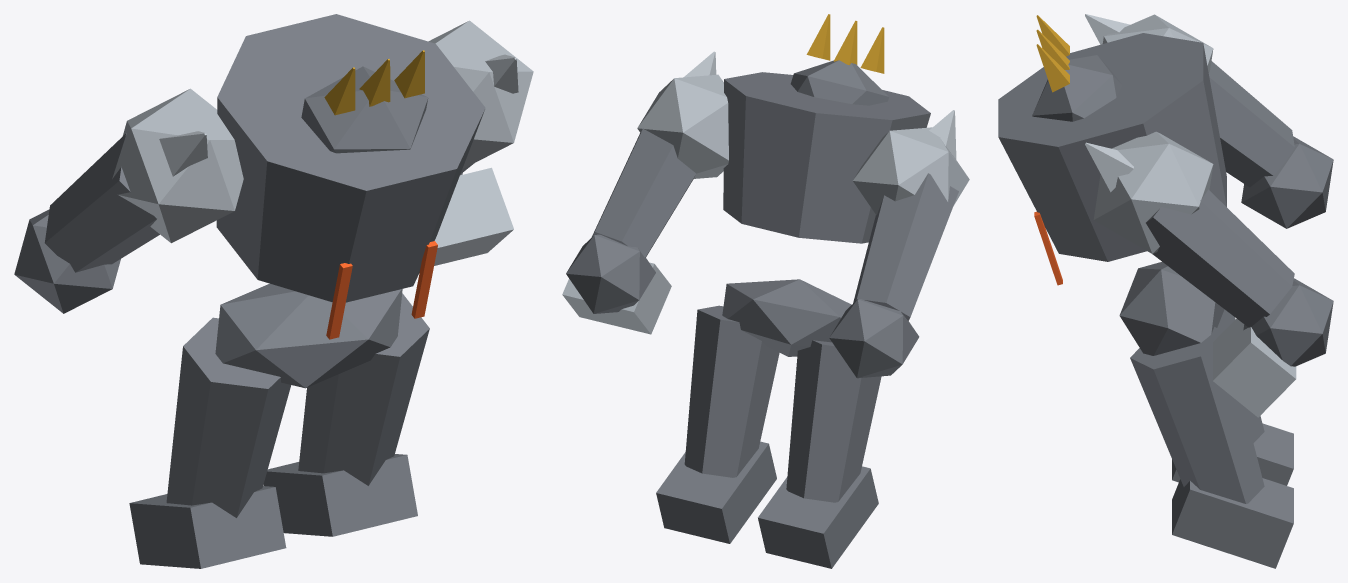
File: npcpose_colossus_attack_07.glb
The picture shows the model from 3 angles, left to right: view 1: azimuth 30°, elevation 25°; view 2: azimuth 150°, elevation 25°; view 3: azimuth 270°, elevation 25°; orthographic projection. The views are drawn at different scales.
Visible parts, largest first — view 1: npcpose; view 2: npcpose; view 3: npcpose.
Boxes of the visible parts, box(x1,y1,x2,y2) form: npcpose: box(14, 14, 533, 568); npcpose: box(562, 14, 969, 568); npcpose: box(998, 14, 1333, 568).
Bounding box in the file's own units: 2.3 × 2.87 × 1.76.
